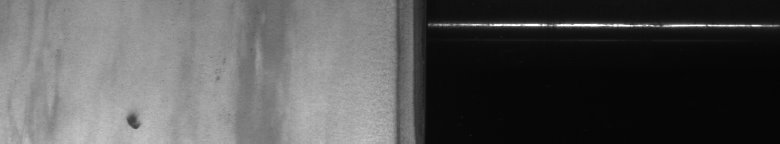fi: (120, 108, 148, 136)
